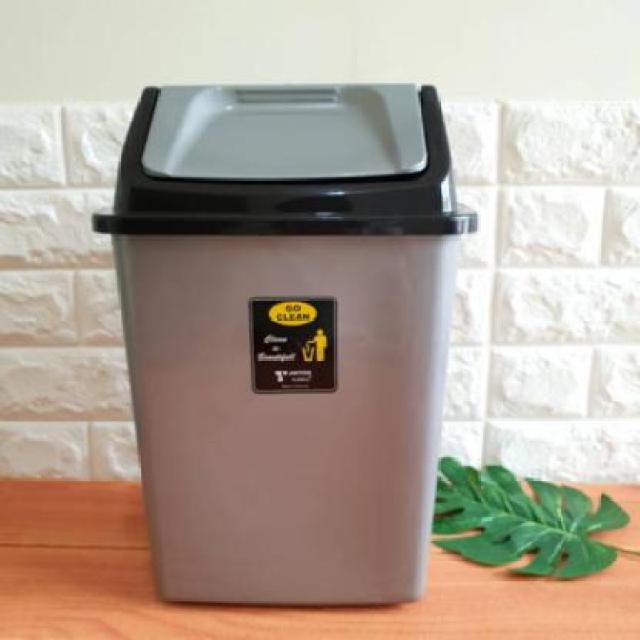garbage container: (85, 77, 488, 631)
